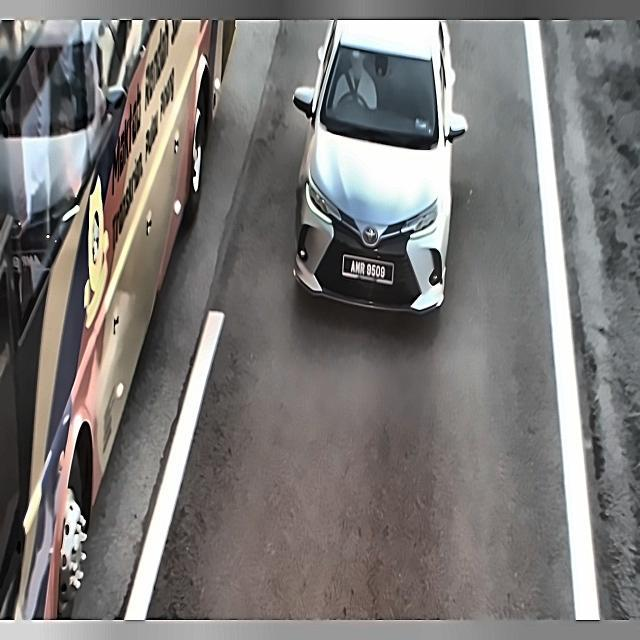car: (338, 249, 397, 291)
